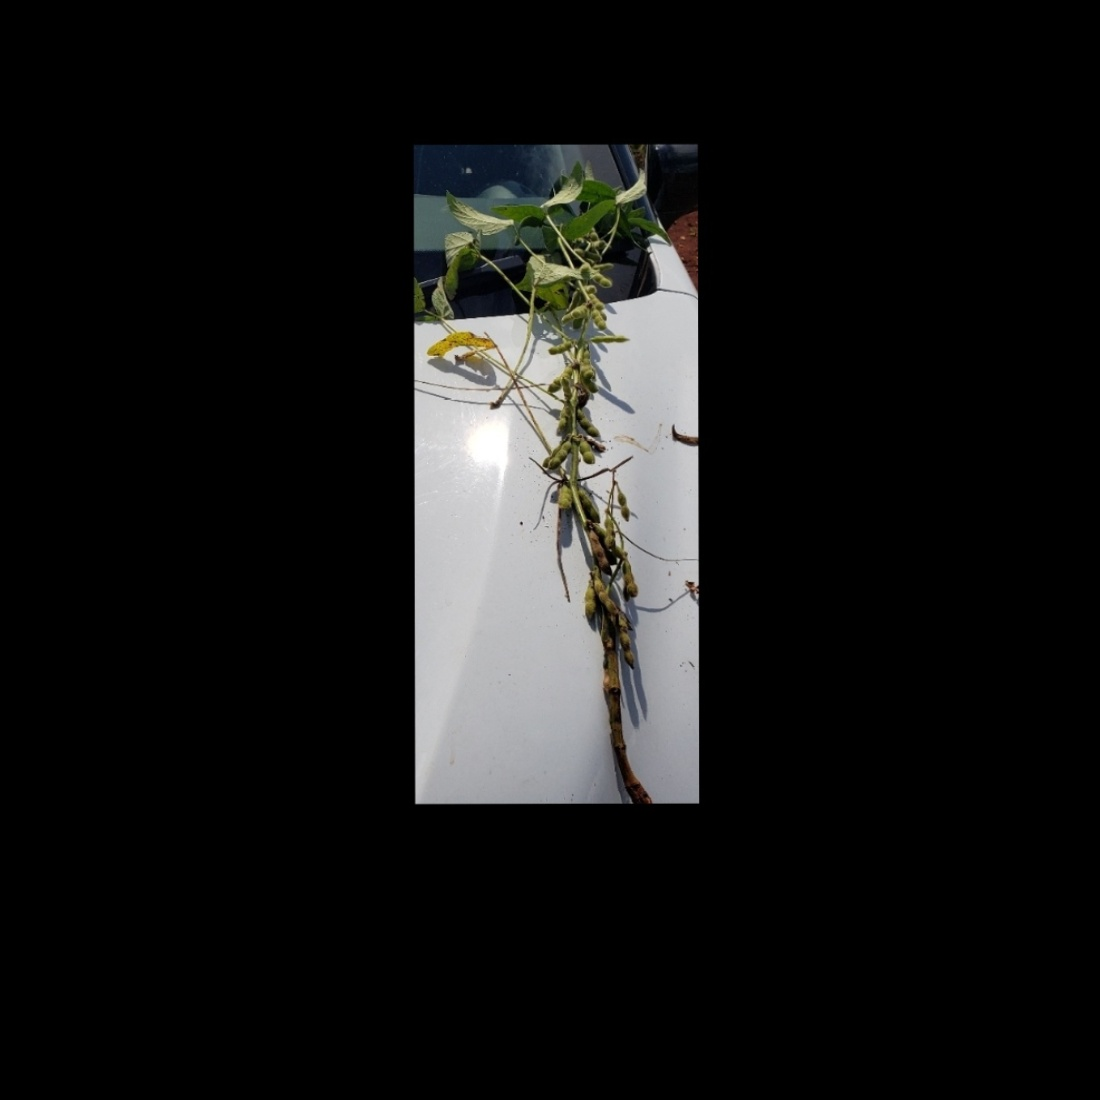pod: (615, 617, 643, 670), (590, 527, 616, 576), (589, 575, 618, 616), (545, 435, 574, 472), (572, 408, 601, 438), (618, 561, 639, 599), (585, 329, 632, 346), (614, 484, 633, 524), (578, 435, 598, 469), (554, 482, 576, 512), (545, 337, 575, 356), (582, 587, 598, 621), (587, 307, 608, 332), (589, 270, 614, 289)
soy: (435, 165, 683, 792)
